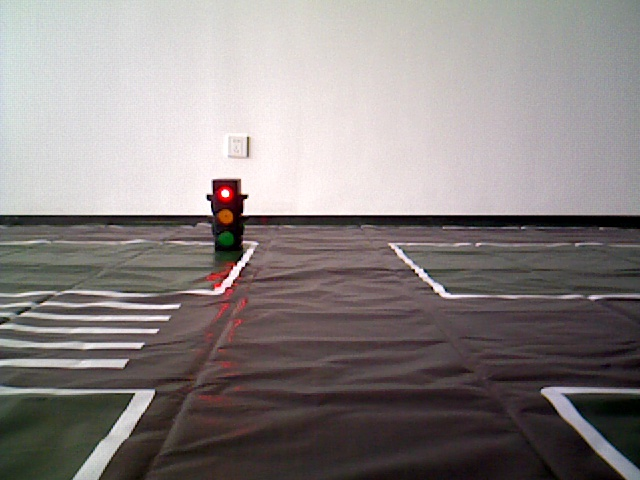red: (213, 182, 239, 254)
